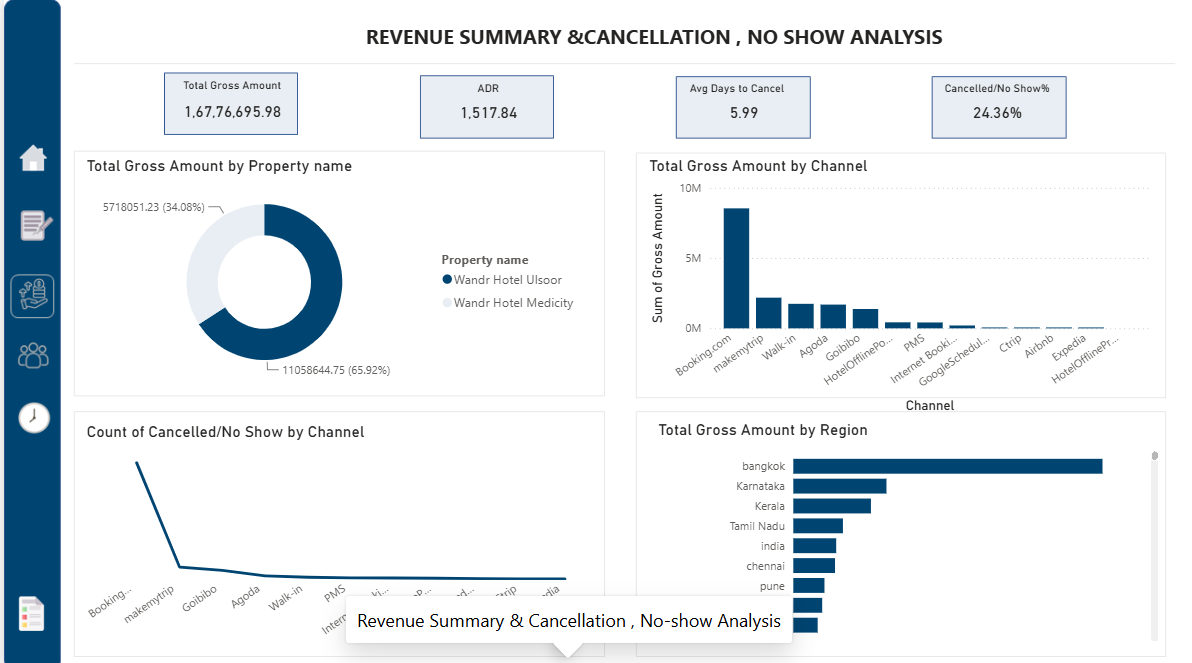

The dashboard page shown, as its layout file describes it:
{"tool":"powerbi","page":{"name":"Revenue Summary & Cancellation , No-show Analysis","canvas":[1280,720],"ordinal":2},"visuals":[{"type":"donutChart","title":"Total  Gross Amount by Property name","fields":{"Category":["Raw data.Property name"],"Y":["Sum(Raw data.Gross Amount)"]},"box":[83.7,169.1,542.5,250.1],"z":0},{"type":"card","title":"ADR","fields":{"Values":["Raw data.ADR"]},"box":[454.6,88,132,53.5],"z":1000},{"type":"columnChart","title":"Total Gross Amount by Channel","fields":{"Category":["Raw data.Channel"],"Y":["Sum(Raw data.Gross Amount)"]},"box":[688.3,169.1,547.7,279.5],"z":2000},{"type":"card","title":"Cancelled/No Show%","fields":{"Values":["Raw data.% Cancelled/NoShow"]},"box":[1000.5,88,136.3,53.5],"z":3000},{"type":"lineChart","title":"Count of Cancelled/No Show by Channel","fields":{"Category":["Raw data.Channel"],"Y":["CountNonNull(Raw data.Channel booking ID)"]},"box":[83.7,454.6,542.5,241.5],"z":4000},{"type":"card","title":"Avg Days to Cancel","fields":{"Values":["Raw data.Avg Days to Cancel"]},"box":[732.3,88,125.9,53.5],"z":5000},{"type":"card","title":"Total Gross Amount","fields":{"Values":["Sum(Raw data.Gross Amount)"]},"box":[185.4,85.4,119.9,57.8],"z":6000},{"type":"barChart","title":"Total Gross Amount by Region","fields":{"Category":["Raw data.Region"],"Y":["Sum(Raw data.Gross Amount)"]},"box":[698.7,453.7,547.7,242.4],"z":7000},{"type":"actionButton","box":[11.7,431.9,41.8,39.9],"z":8000},{"type":"actionButton","box":[11.7,222.7,41.8,39.9],"z":9000},{"type":"actionButton","box":[11.7,358.9,41.8,39.9],"z":11000},{"type":"actionButton","box":[12.6,154.7,40.9,39.9],"z":12000},{"type":"actionButton","box":[12.6,637.1,41.8,39.9],"z":13000},{"type":"textbox","box":[354,19.5,688.6,39.9],"z":14000}]}

Visuals, with their boxes on the page's 1280x720 design canvas (x1, y1, x2, y2). These are canvas units, not pixel positions in the 1192x663 screenshot, which may show the page scaled, cropped or inside an application window:
"Total  Gross Amount by Property name" donutChart: rect(84, 169, 626, 419)
"ADR" card: rect(455, 88, 587, 142)
"Total Gross Amount by Channel" columnChart: rect(688, 169, 1236, 449)
"Cancelled/No Show%" card: rect(1000, 88, 1137, 142)
"Count of Cancelled/No Show by Channel" lineChart: rect(84, 455, 626, 696)
"Avg Days to Cancel" card: rect(732, 88, 858, 142)
"Total Gross Amount" card: rect(185, 85, 305, 143)
"Total Gross Amount by Region" barChart: rect(699, 454, 1246, 696)
actionButton: rect(12, 432, 54, 472)
actionButton: rect(12, 223, 54, 263)
actionButton: rect(12, 359, 54, 399)
actionButton: rect(13, 155, 54, 195)
actionButton: rect(13, 637, 54, 677)
textbox: rect(354, 20, 1043, 59)
